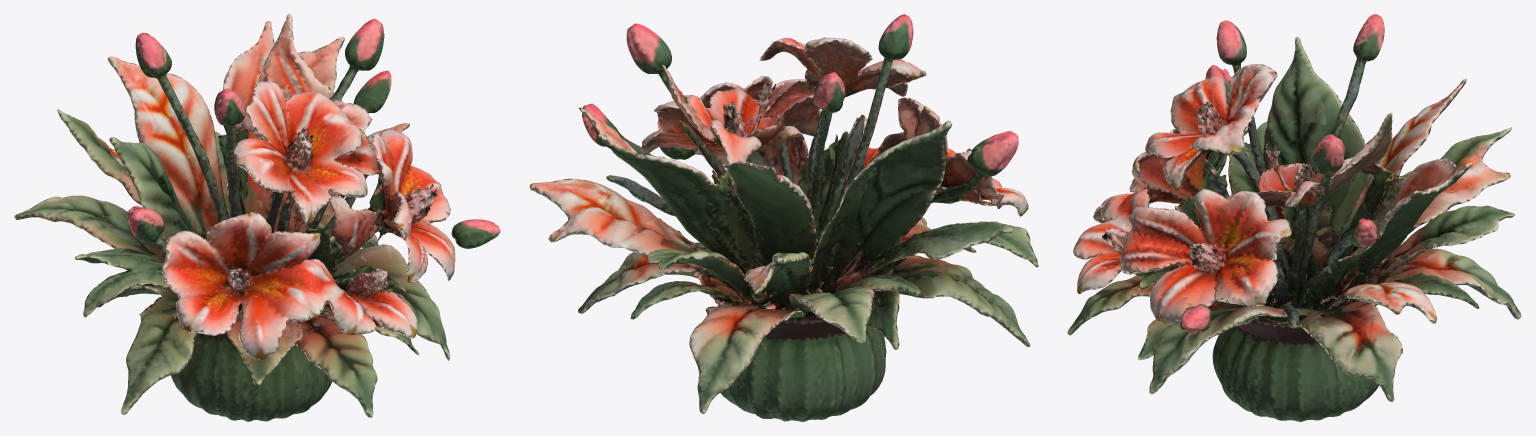
File: Meshy_AI_Low_poly_old_cemetery_1227204219_texture.fbx
3 views of the same model, side by side, from view 1: azimuth 30°, elevation 25°; view 2: azimuth 150°, elevation 25°; view 3: azimuth 270°, elevation 25° (orthographic). The views are drawn at different scales.
Parts seen in each view (by area): view 1: output; view 2: output; view 3: output.
Part boxes in pixels (x1,y1,x2,y2): output: (14, 14, 500, 421); output: (529, 14, 1038, 421); output: (1067, 14, 1521, 421).
Bounding box in the file's own units: 191 × 161 × 188.
Materials: 1 (1 with a texture image).
